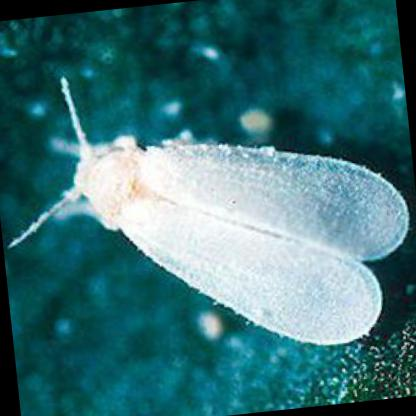whitefly: (73, 144, 410, 344)
